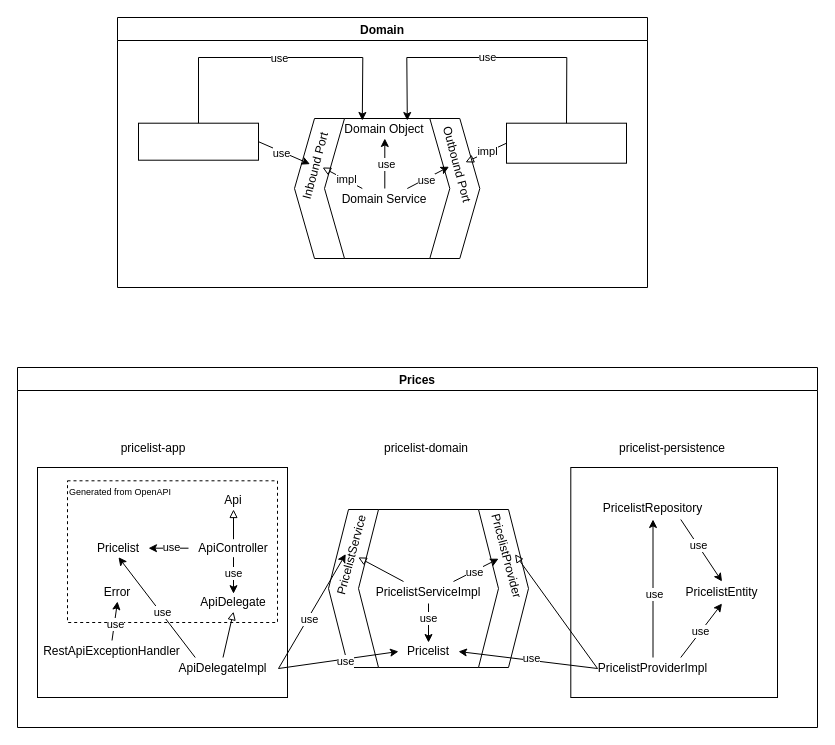
The diagram is 835 pixels wide and 745 high, and some of its shapes have lost their labels. The shapes that lost their labels are listed below. From the top down, each one's centre as x and y in pixels, then its label:
At pixel 198 141: "Primary Adapter".
At pixel 566 142: "Secondary Adapter".
